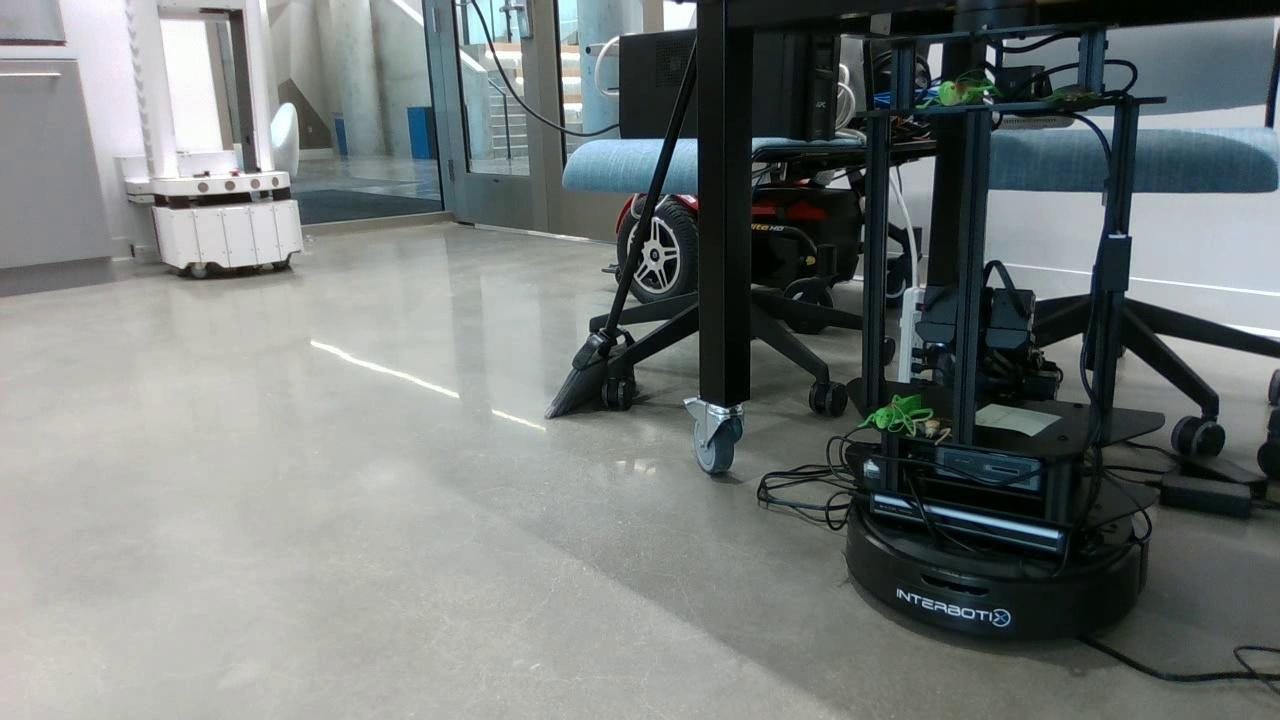grasshopper: (857, 385, 929, 440), (925, 69, 991, 108)
